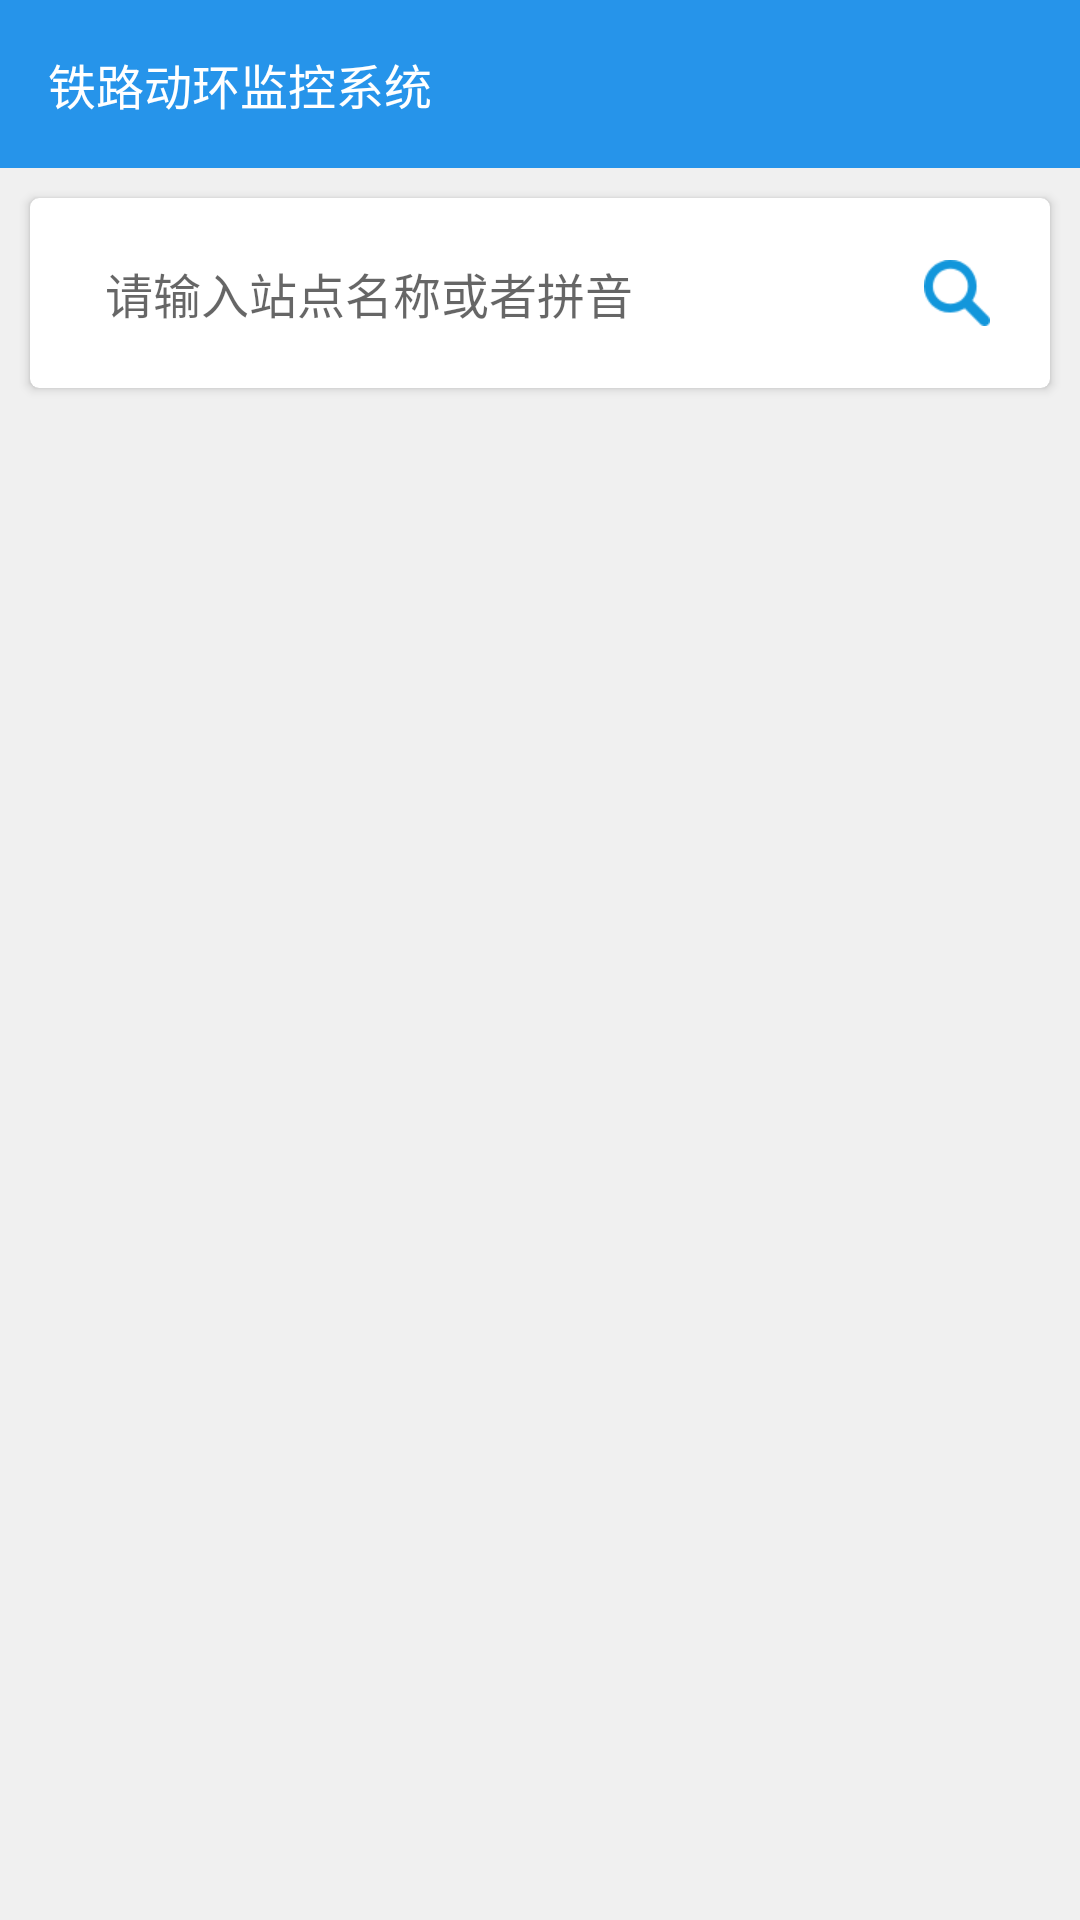

Icon click points for this 1080*1920 phone screenshot, format (x=x, y=y):
search: (x=957, y=293)
